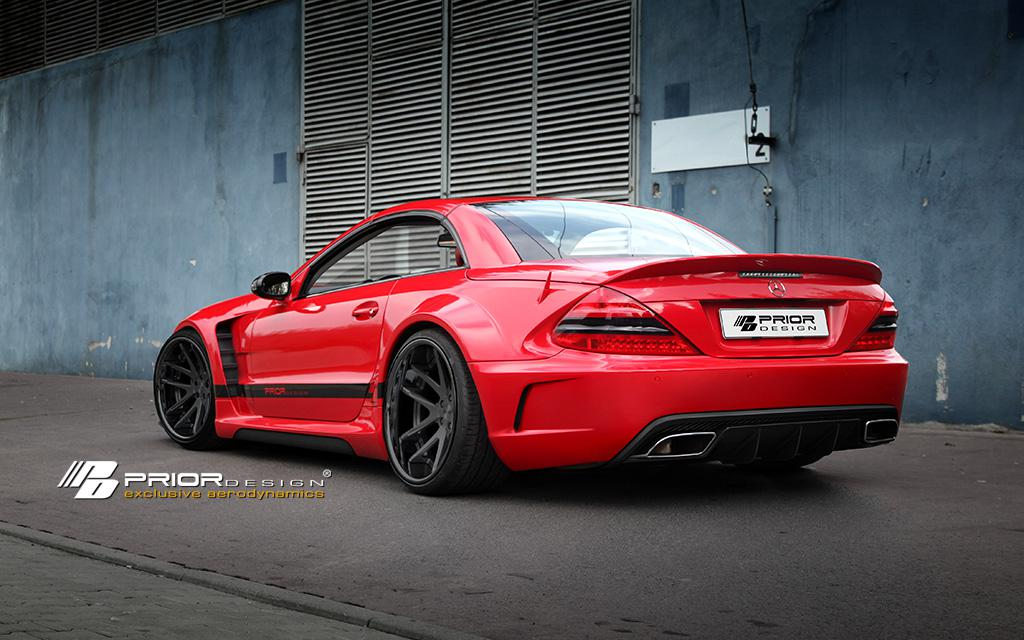Car: (149, 191, 912, 495)
